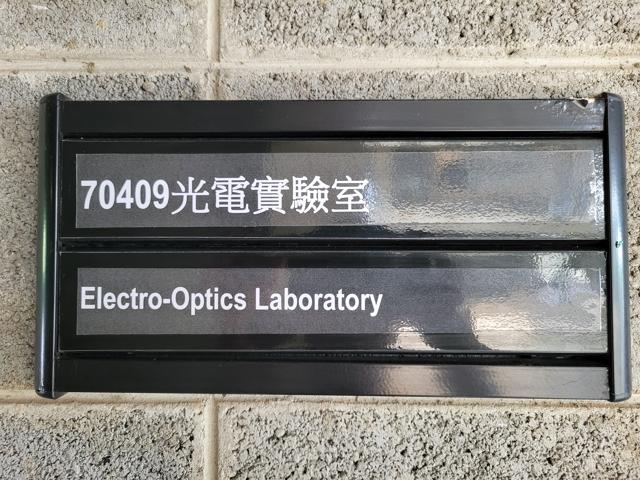doorplate: (35, 84, 634, 412)
